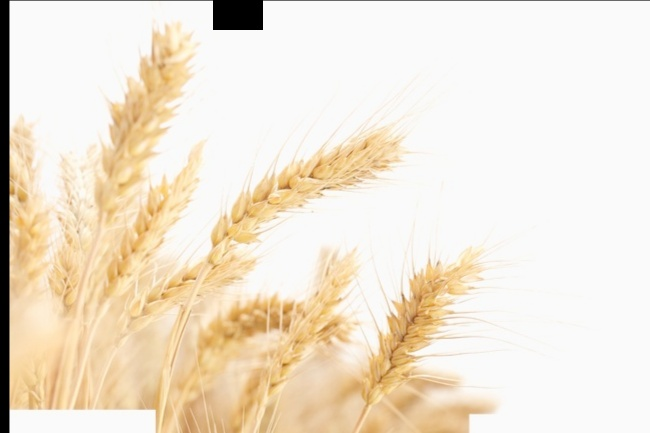wheat: (199, 113, 412, 274), (361, 243, 483, 414)
